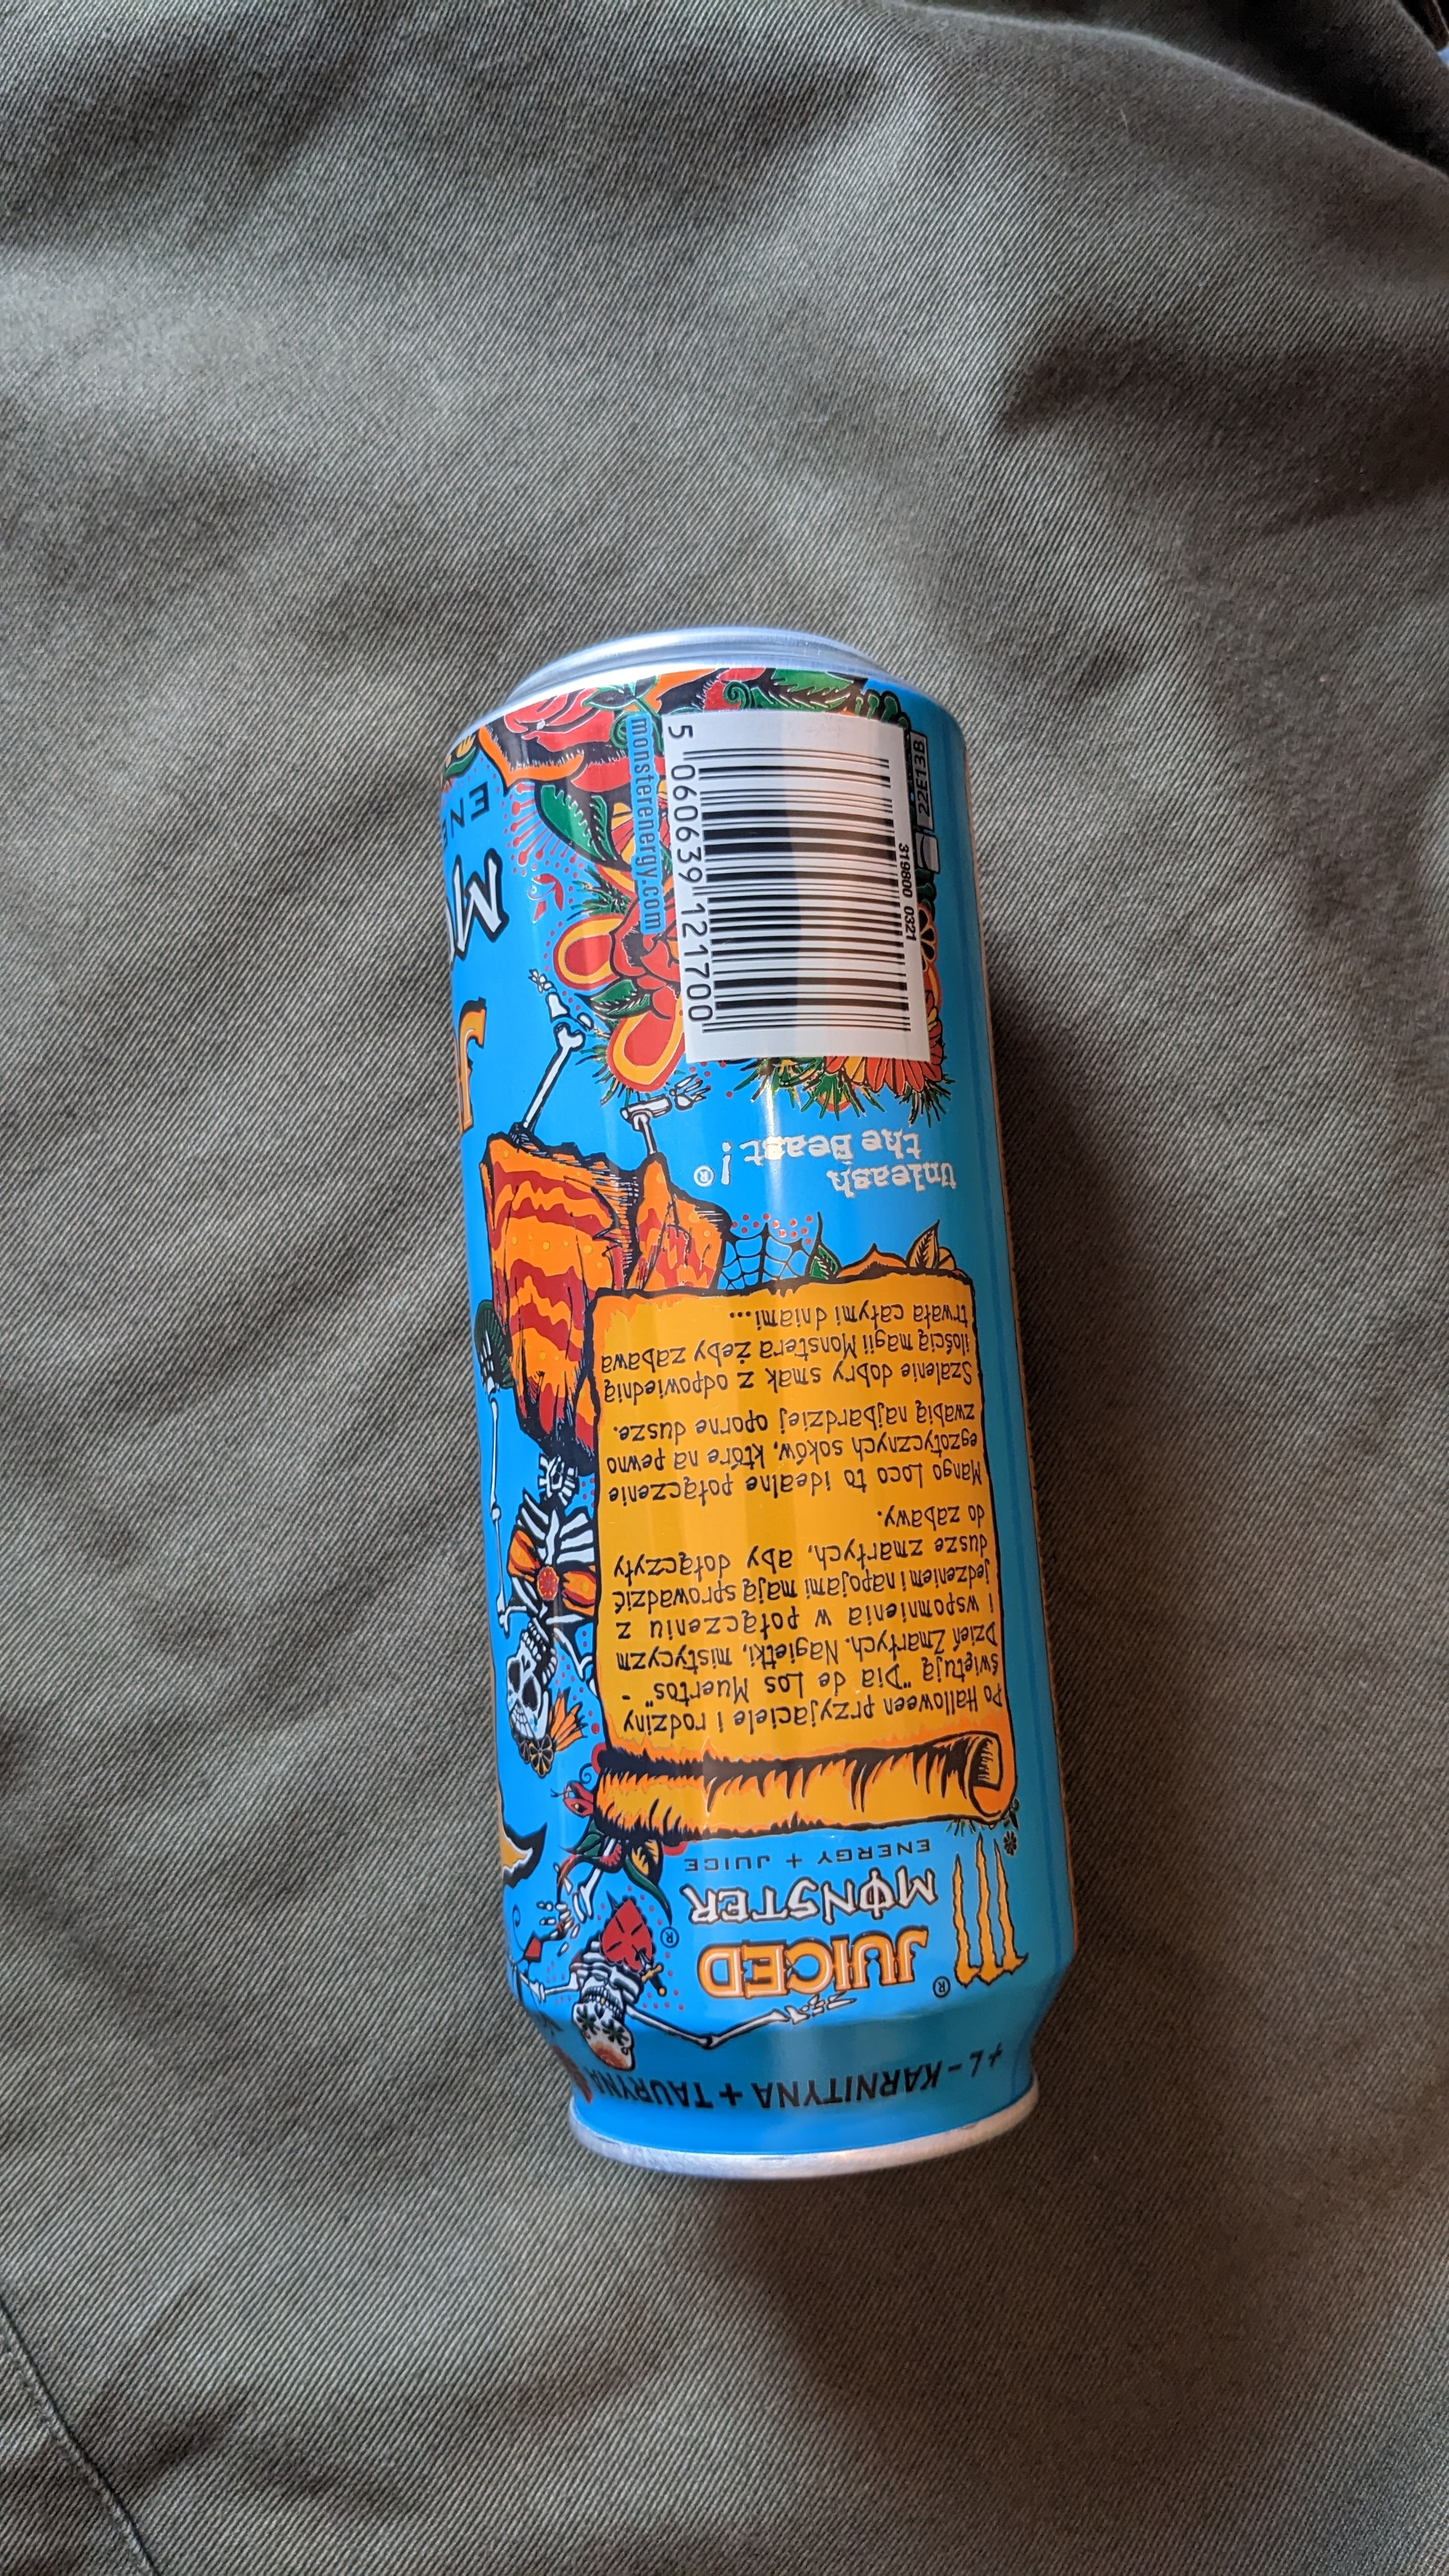monster: (386, 598, 1136, 2231)
